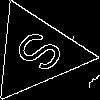S: (11, 27, 75, 82)
